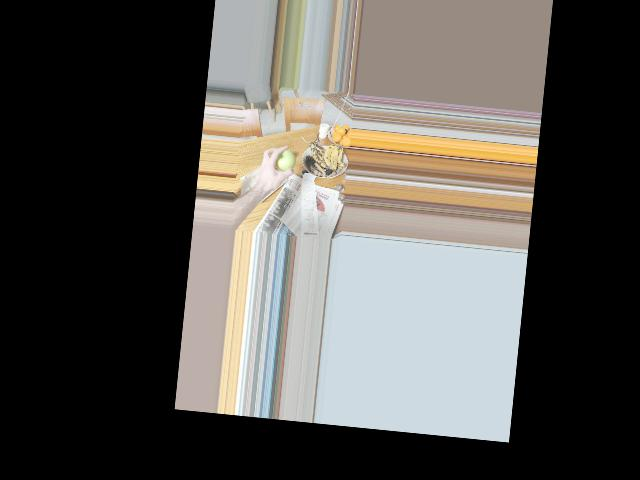apple: (273, 146, 298, 172)
